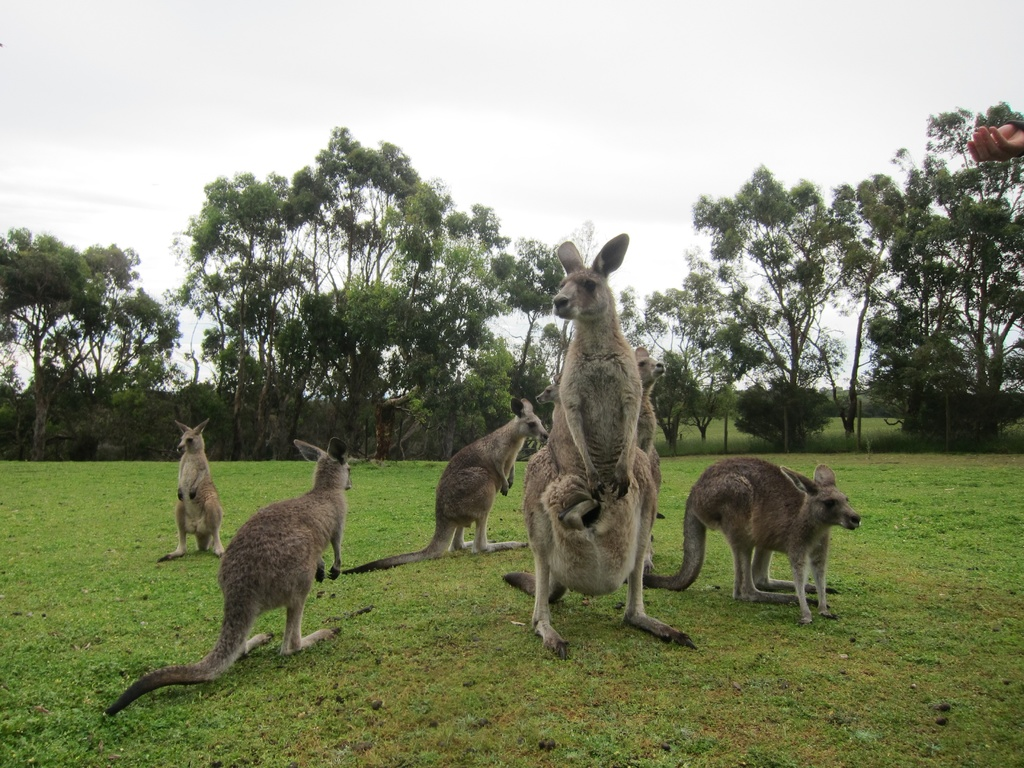kangaroo: (498, 231, 696, 659), (101, 439, 355, 717), (107, 435, 352, 714), (158, 416, 227, 562), (157, 418, 223, 565)
